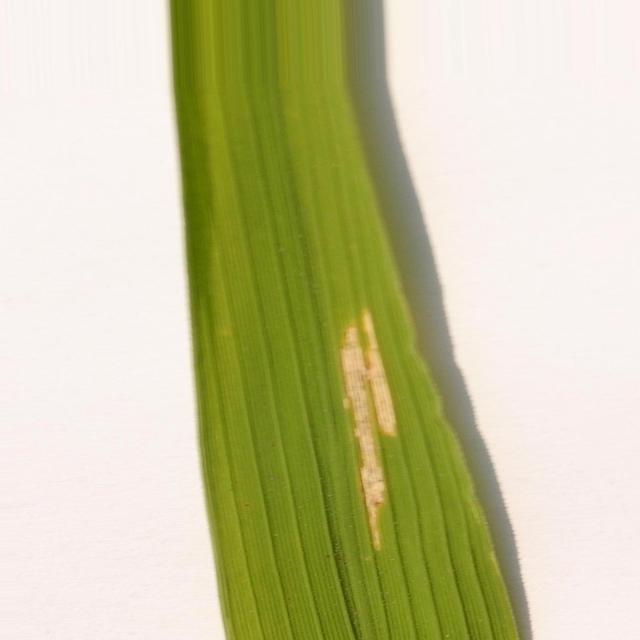Bacterial_Leaf_Blight: (340, 310, 398, 549)
